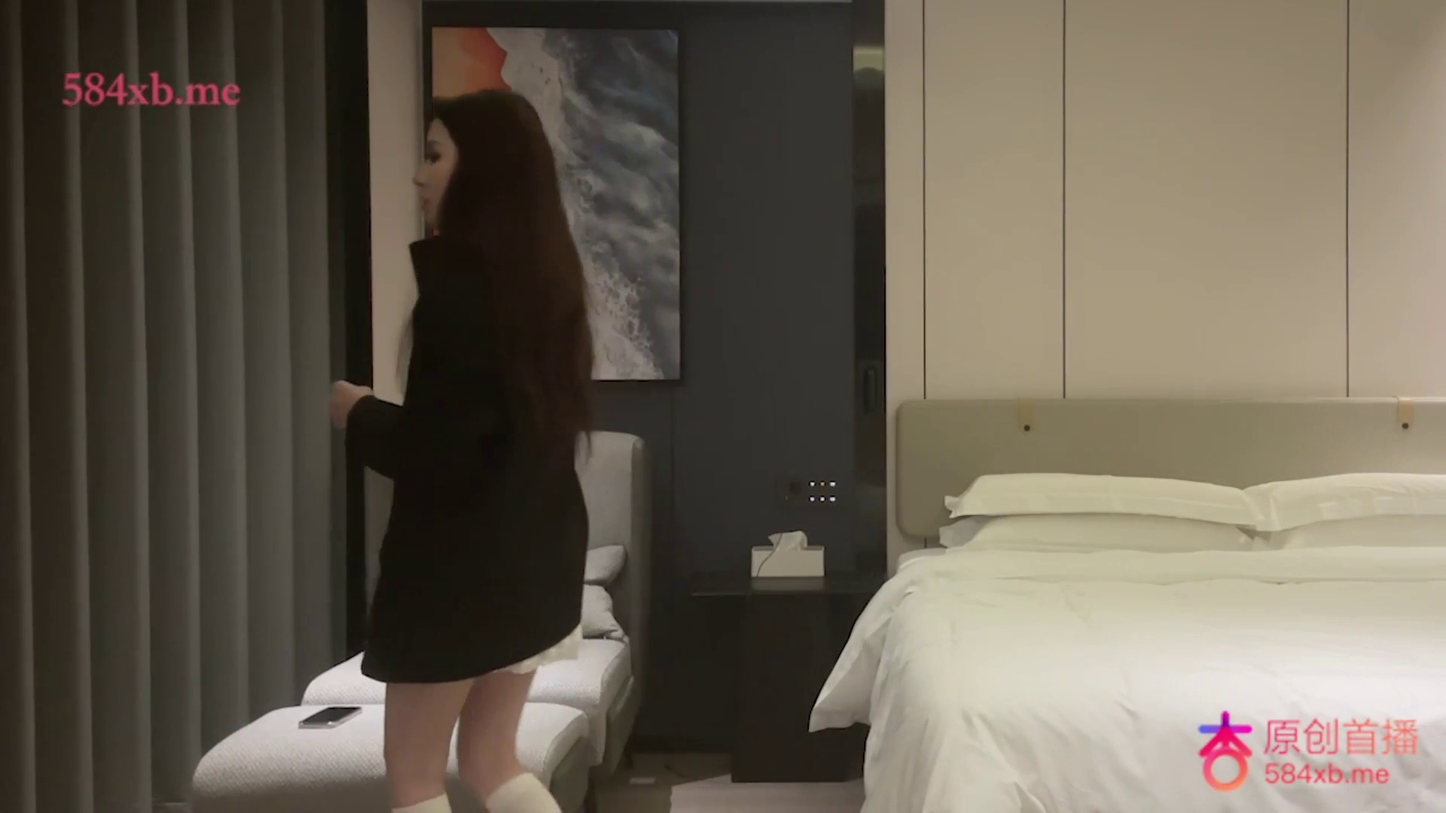stand: (328, 88, 596, 808)
